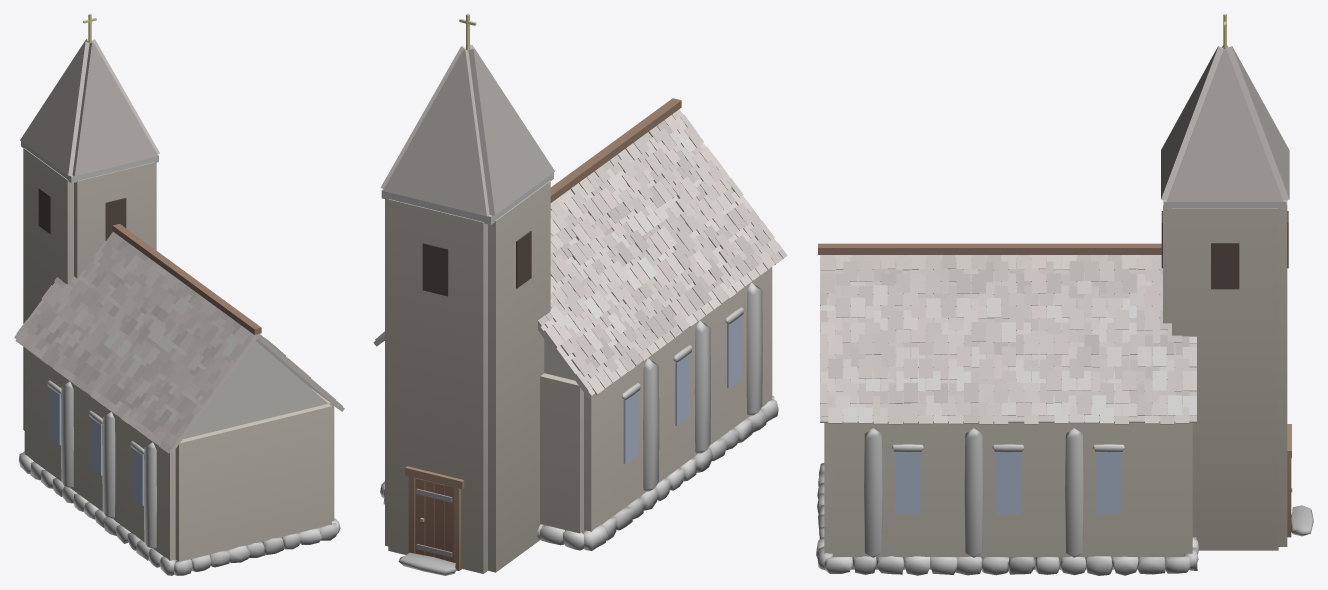
The model's file is hw_medieval_church.glb.
3 views of the same model, side by side, from view 1: azimuth 30°, elevation 25°; view 2: azimuth 150°, elevation 25°; view 3: azimuth 270°, elevation 25° (orthographic). The views are drawn at different scales.
Visible parts, largest first — view 1: Building; view 2: Building; view 3: Building.
Part boxes in pixels (x1,y1,x2,y2): Building: [14, 14, 344, 575]; Building: [373, 14, 787, 575]; Building: [816, 14, 1313, 575].
Bounding box in the file's own units: 3.98 × 9 × 7.92.
